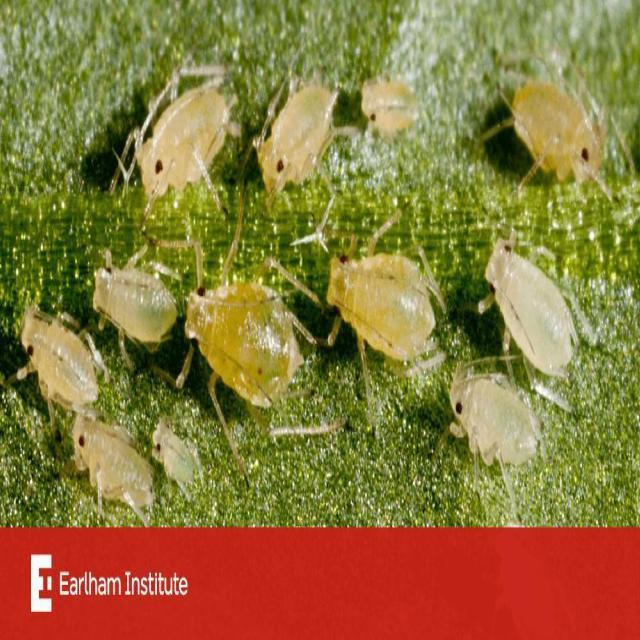aphid: (164, 234, 334, 456), (485, 40, 640, 194), (476, 228, 603, 399), (307, 238, 446, 380), (442, 342, 547, 520), (255, 48, 354, 214), (122, 73, 236, 202), (63, 400, 162, 528), (78, 244, 184, 358), (16, 299, 101, 419), (148, 408, 214, 510), (363, 76, 422, 136)
